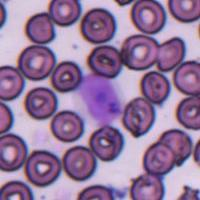M: (76, 74, 123, 126)
